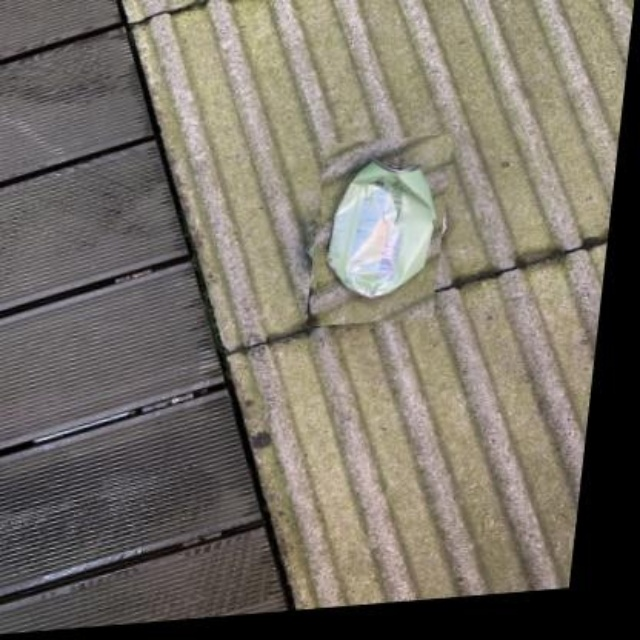trash: (328, 163, 434, 295)
